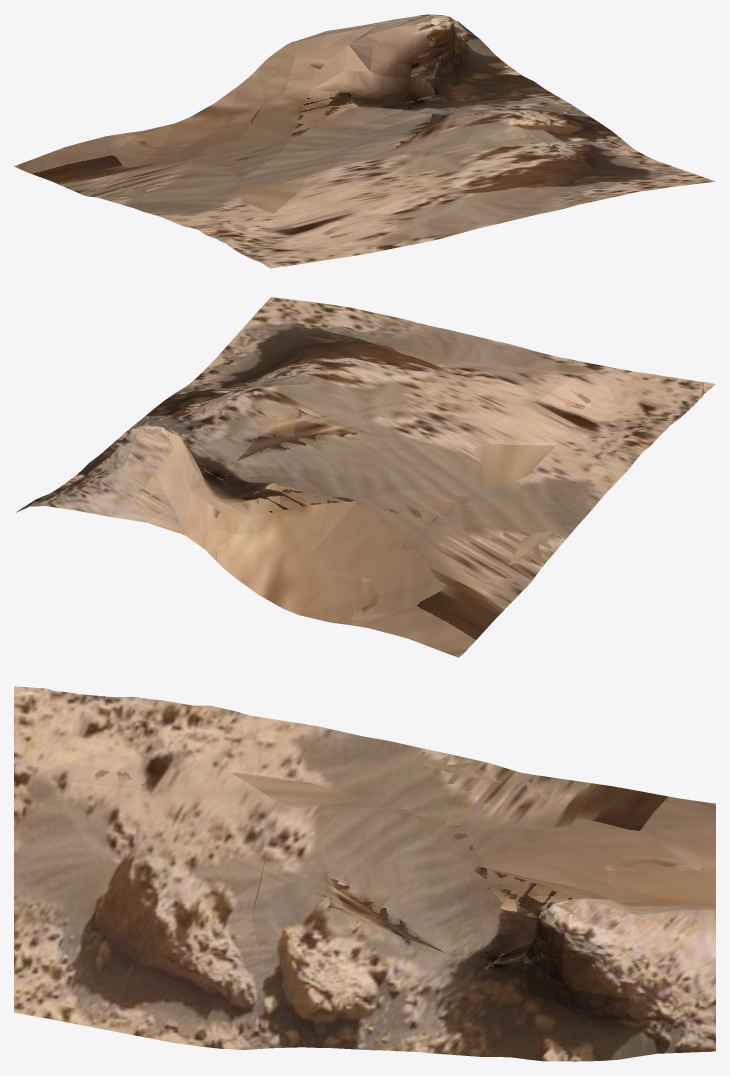
The picture shows the model from 3 angles, top to bottom: view 1: azimuth 30°, elevation 25°; view 2: azimuth 150°, elevation 25°; view 3: azimuth 270°, elevation 25°; orthographic projection. The views are drawn at different scales.
Size of the model in its own units: 1.04 by 0.224 by 1.04.
Materials: 2 (2 with a texture image).
